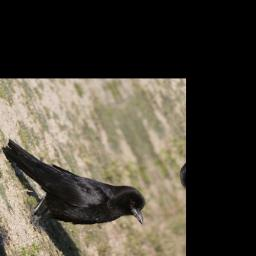Crow: (0, 105, 156, 256)
